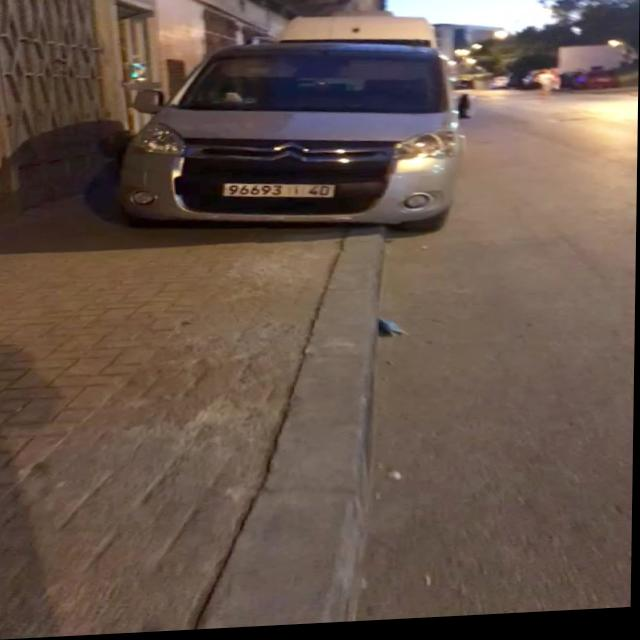License-Plate: (225, 186, 336, 201)
